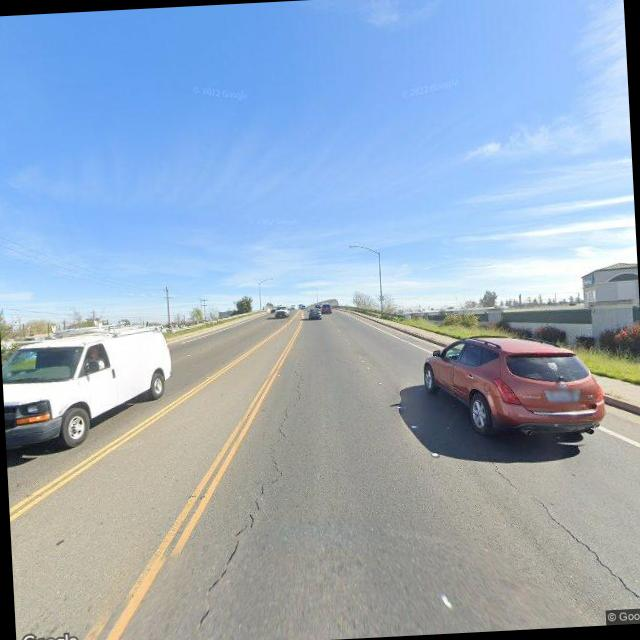pothole: (485, 450, 640, 620), (196, 372, 311, 593)
